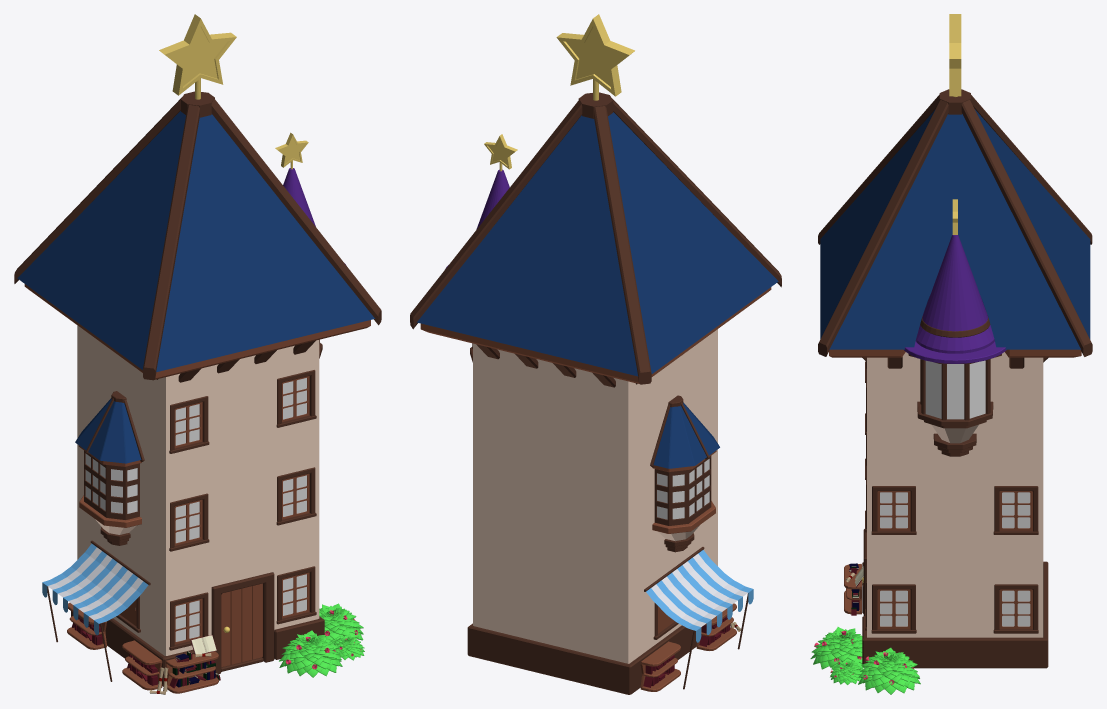
The model's file is MagicShop_Upgrade_4.fbx.
3 views of the same model, side by side, from view 1: azimuth 30°, elevation 25°; view 2: azimuth 150°, elevation 25°; view 3: azimuth 270°, elevation 25° (orthographic).
Visible parts, largest first — view 1: Hat; view 2: Hat; view 3: Hat.
Boxes of the visible parts, x1=… form: Hat: x1=14, y1=14, x2=381, y2=694; Hat: x1=410, y1=14, x2=781, y2=694; Hat: x1=810, y1=14, x2=1092, y2=694.
Size of the model in its own units: 848 by 1866 by 770.
